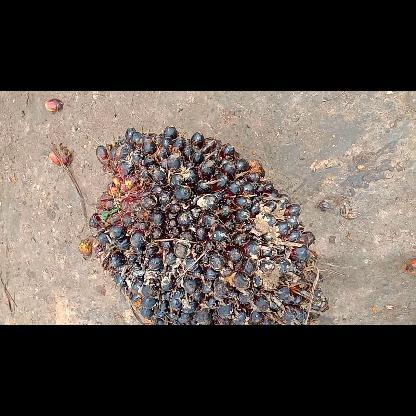TBS mentah: (86, 122, 332, 324)
